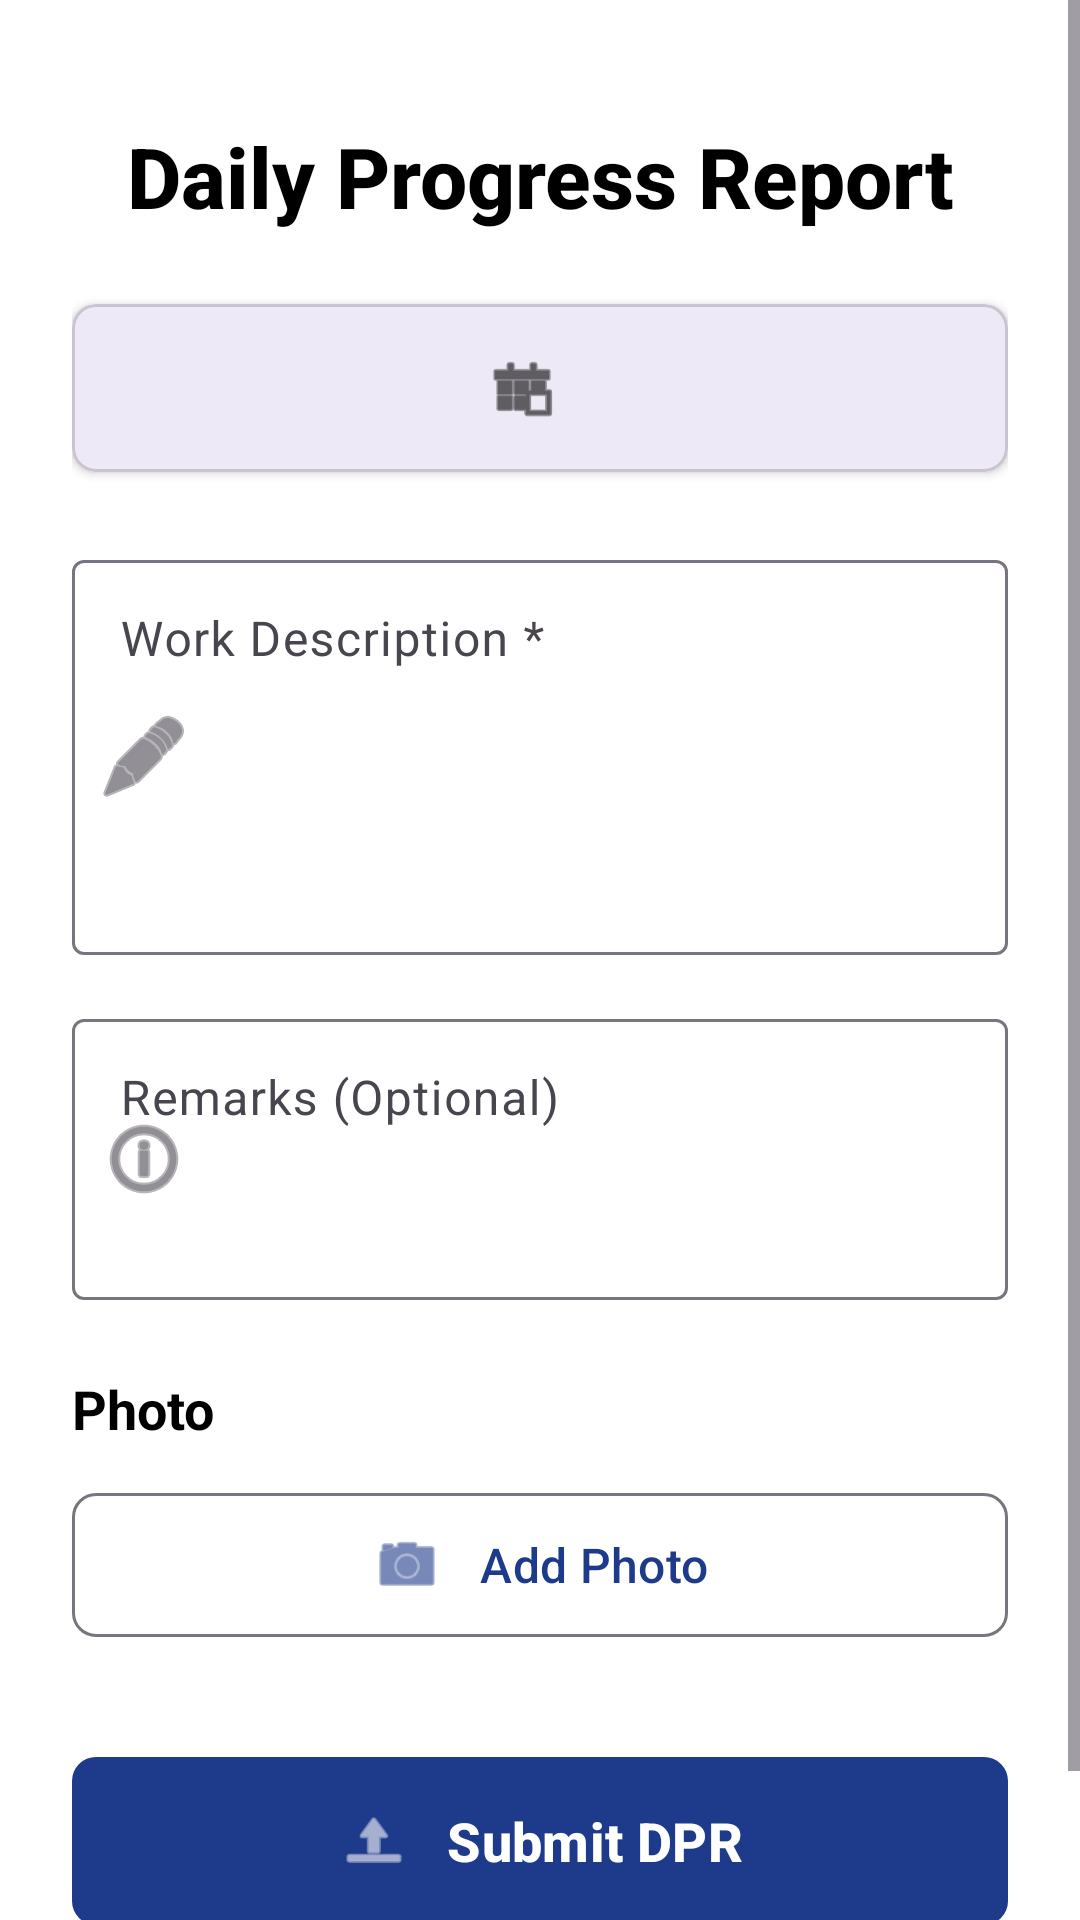

Icons on this 1080px×1920px Android screen, each with its box as (x1, y1, x2, y2):
Calendar Icon: (493, 362, 552, 417)
